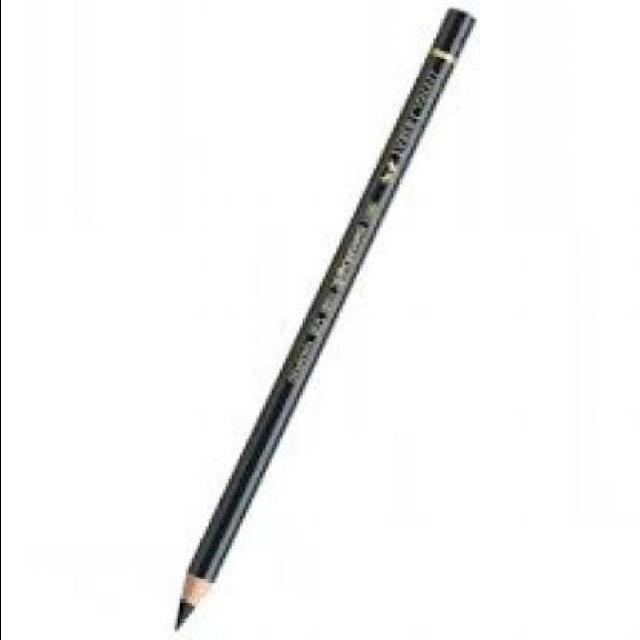pencil: (159, 546, 233, 640)
